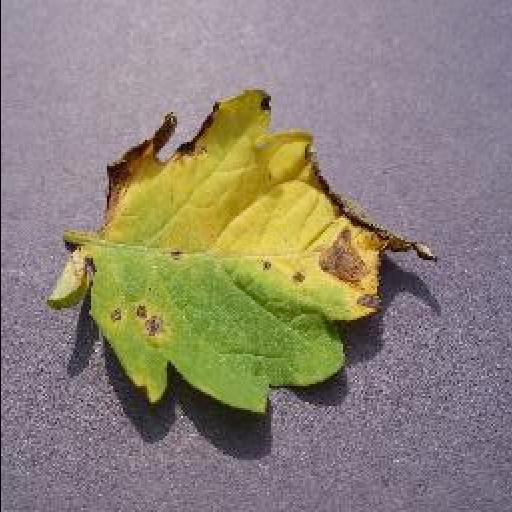disease_tomato: (47, 90, 437, 418)
